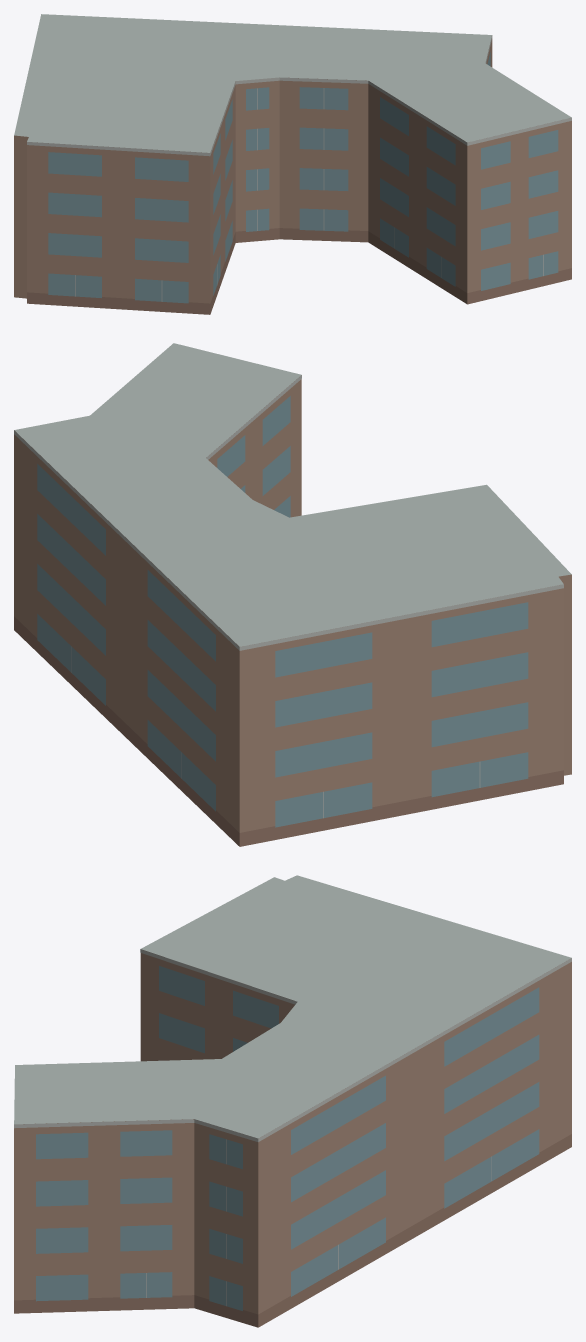
Rendered from survey-upis-32680474.glb.
3 renders of one model, top to bottom at view 1: azimuth 30°, elevation 25°; view 2: azimuth 150°, elevation 25°; view 3: azimuth 270°, elevation 25°, orthographic. The views are drawn at different scales.
Visible parts, largest first — view 1: survey-upis-32680474.tmp; view 2: survey-upis-32680474.tmp; view 3: survey-upis-32680474.tmp.
Part boxes in pixels (left/top/right/bottom): survey-upis-32680474.tmp: left=14, top=14, right=571, bottom=314; survey-upis-32680474.tmp: left=14, top=343, right=571, bottom=846; survey-upis-32680474.tmp: left=14, top=875, right=571, bottom=1327.
Size of the model in its own units: 36.42 by 12.2 by 32.61.
